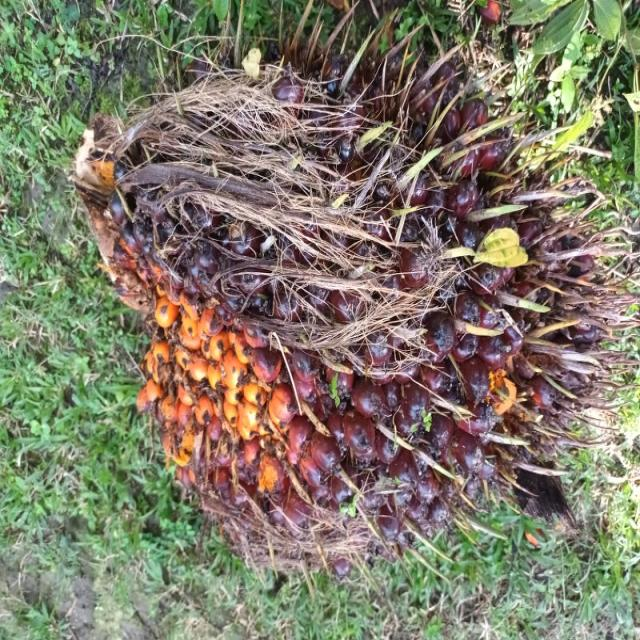fraksi 1: (53, 102, 446, 640)
